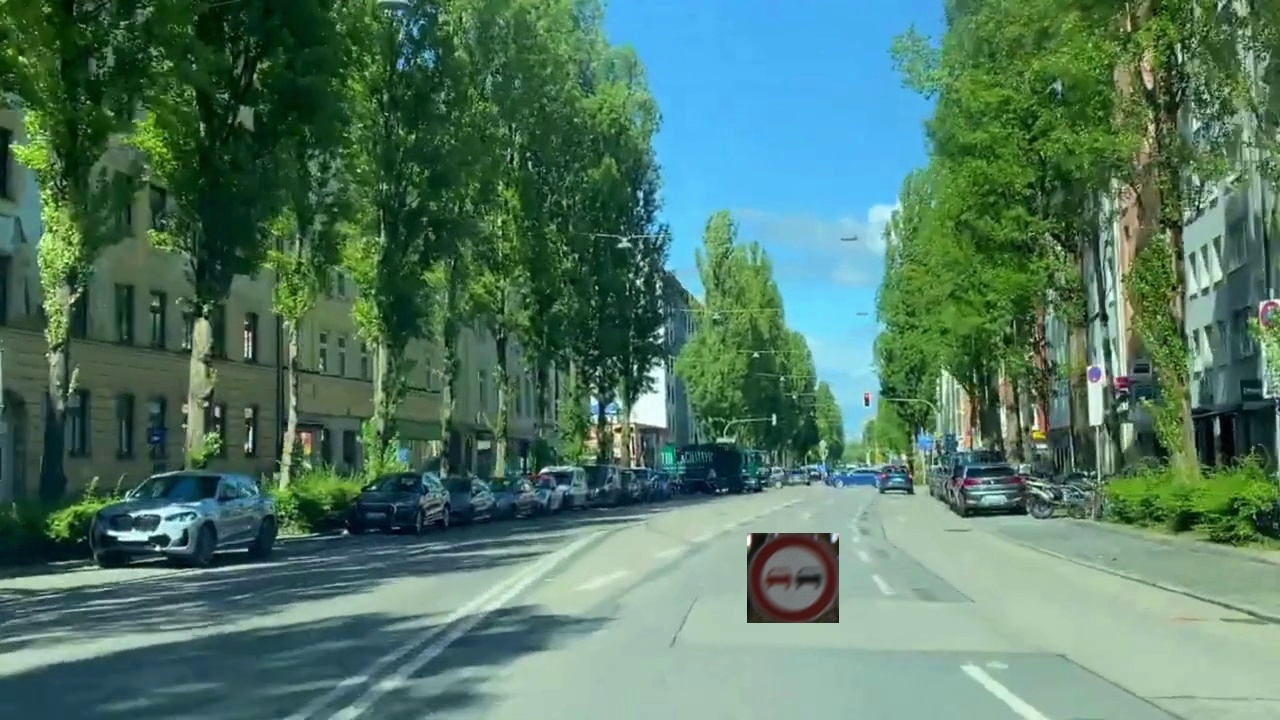No passing: (747, 533, 839, 623)
